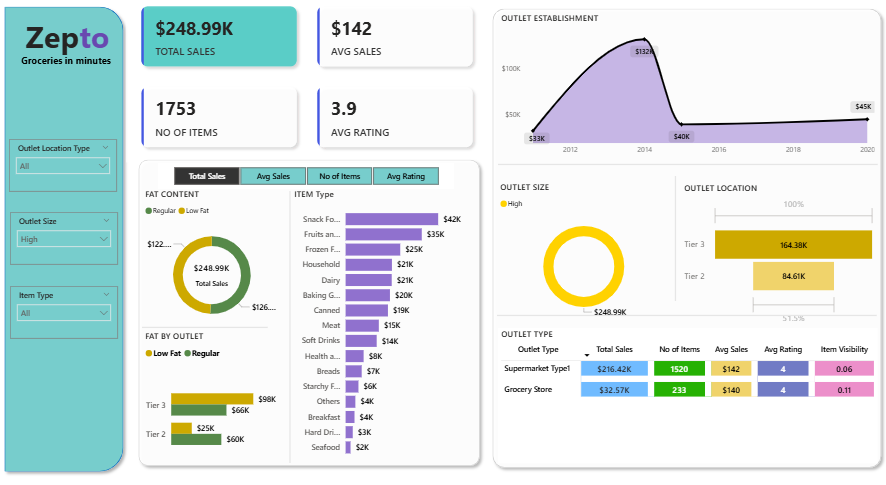

The dashboard page shown, as its layout file describes it:
{"tool":"powerbi","page":{"name":"Page 1","canvas":[1400,800],"ordinal":0},"visuals":[{"type":"shape","box":[0,15.6,204.7,750],"z":0},{"type":"textbox","box":[23.4,32.8,168.8,76.6],"z":1000},{"type":"textbox","box":[18.8,93.8,173.4,31.2],"z":2000},{"type":"cardVisual","fields":{"Data":["Zepto Grocery Data.Total Sales","Zepto Grocery Data.Avg Sales","Zepto Grocery Data.No of Items","Zepto Grocery Data.Avg Rating"]},"box":[200,0,570,270],"z":3000},{"type":"shape","box":[210.9,256.2,554.7,500],"z":4000},{"type":"donutChart","title":"FAT CONTENT","fields":{"Y":["Zepto Grocery Data.Total Sales"],"Category":["Zepto Grocery Data.Item Fat Content"]},"box":[225,310.9,220,230],"z":5000},{"type":"slicer","fields":{"Values":["Metrics.Metrics"]},"box":[250,270.3,465.6,40.6],"z":6000},{"type":"cardVisual","fields":{"Data":["Zepto Grocery Data.Total Sales"]},"box":[271.9,406.2,125,81.2],"z":7000},{"type":"clusteredBarChart","title":"FAT BY OUTLET","fields":{"Y":["Zepto Grocery Data.Total Sales"],"Category":["Zepto Grocery Data.Outlet Location Type"],"Series":["Zepto Grocery Data.Item Fat Content"]},"box":[225,534.4,220.3,229.7],"z":8000},{"type":"shape","box":[225,514.1,198.4,32.8],"z":9000},{"type":"shape","box":[451.6,315.6,12.5,428.1],"z":10000},{"type":"barChart","title":"ITEM Type","fields":{"Y":["Zepto Grocery Data.Total Sales"],"Category":["Zepto Grocery Data.Item Type"]},"box":[459.4,310.9,290.6,432.8],"z":11000},{"type":"shape","box":[768.8,18.8,629.7,740.6],"z":12000},{"type":"lineChart","title":"OUTLET ESTABLISHMENT","fields":{"Category":["Zepto Grocery Data.Outlet Establishment Year"],"Y":["Zepto Grocery Data.Total Sales"]},"box":[785.9,32.8,598.4,234.4],"z":13000},{"type":"shape","box":[785.9,260.9,598.4,23.4],"z":14000},{"type":"donutChart","title":"OUTLET SIZE ","fields":{"Y":["Zepto Grocery Data.Total Sales"],"Category":["Zepto Grocery Data.Outlet Size"]},"box":[784.4,298.4,273.4,225],"z":15000},{"type":"shape","box":[1056.2,290.6,17.2,196.9],"z":16000},{"type":"funnel","title":"OUTLET LOCATION","fields":{"Y":["Sum(Zepto Grocery Data.Sales)"],"Category":["Zepto Grocery Data.Outlet Location Type"]},"box":[1073.4,301,310.9,229.7],"z":17000},{"type":"shape","box":[784.4,498.4,598.4,23.4],"z":18000},{"type":"pivotTable","title":"OUTLET TYPE","fields":{"Rows":["Zepto Grocery Data.Outlet Type"],"Values":["Zepto Grocery Data.Total Sales","Zepto Grocery Data.No of Items","Zepto Grocery Data.Avg Sales","Zepto Grocery Data.Avg Rating","Avg(Zepto Grocery Data.Item Visibility)"]},"box":[785.9,531.2,598.4,212.5],"z":19000},{"type":"slicer","fields":{"Values":["Zepto Grocery Data.Outlet Location Type"]},"box":[15.6,232.8,170.3,82.8],"z":20000},{"type":"slicer","fields":{"Values":["Zepto Grocery Data.Outlet Size"]},"box":[17.2,348.4,170.3,82.8],"z":21000},{"type":"slicer","fields":{"Values":["Zepto Grocery Data.Item Type"]},"box":[17.2,464.1,170.3,82.8],"z":22000}]}

Visuals, with their boxes on the page's 1400x800 design canvas (x1, y1, x2, y2). These are canvas units, not pixel positions in the 886x485 screenshot, which may show the page scaled, cropped or inside an application window:
shape: <bbox>0, 16, 205, 766</bbox>
textbox: <bbox>23, 33, 192, 109</bbox>
textbox: <bbox>19, 94, 192, 125</bbox>
cardVisual - Zepto Grocery Data.Total Sales x Zepto Grocery Data.Avg Sales: <bbox>200, 0, 770, 270</bbox>
shape: <bbox>211, 256, 766, 756</bbox>
"FAT CONTENT" donutChart: <bbox>225, 311, 445, 541</bbox>
slicer - Metrics.Metrics: <bbox>250, 270, 716, 311</bbox>
cardVisual - Zepto Grocery Data.Total Sales: <bbox>272, 406, 397, 487</bbox>
"FAT BY OUTLET" clusteredBarChart: <bbox>225, 534, 445, 764</bbox>
shape: <bbox>225, 514, 423, 547</bbox>
shape: <bbox>452, 316, 464, 744</bbox>
"ITEM Type" barChart: <bbox>459, 311, 750, 744</bbox>
shape: <bbox>769, 19, 1398, 759</bbox>
"OUTLET ESTABLISHMENT" lineChart: <bbox>786, 33, 1384, 267</bbox>
shape: <bbox>786, 261, 1384, 284</bbox>
"OUTLET SIZE " donutChart: <bbox>784, 298, 1058, 523</bbox>
shape: <bbox>1056, 291, 1073, 488</bbox>
"OUTLET LOCATION" funnel: <bbox>1073, 301, 1384, 531</bbox>
shape: <bbox>784, 498, 1383, 522</bbox>
"OUTLET TYPE" pivotTable: <bbox>786, 531, 1384, 744</bbox>
slicer - Zepto Grocery Data.Outlet Location Type: <bbox>16, 233, 186, 316</bbox>
slicer - Zepto Grocery Data.Outlet Size: <bbox>17, 348, 188, 431</bbox>
slicer - Zepto Grocery Data.Item Type: <bbox>17, 464, 188, 547</bbox>
